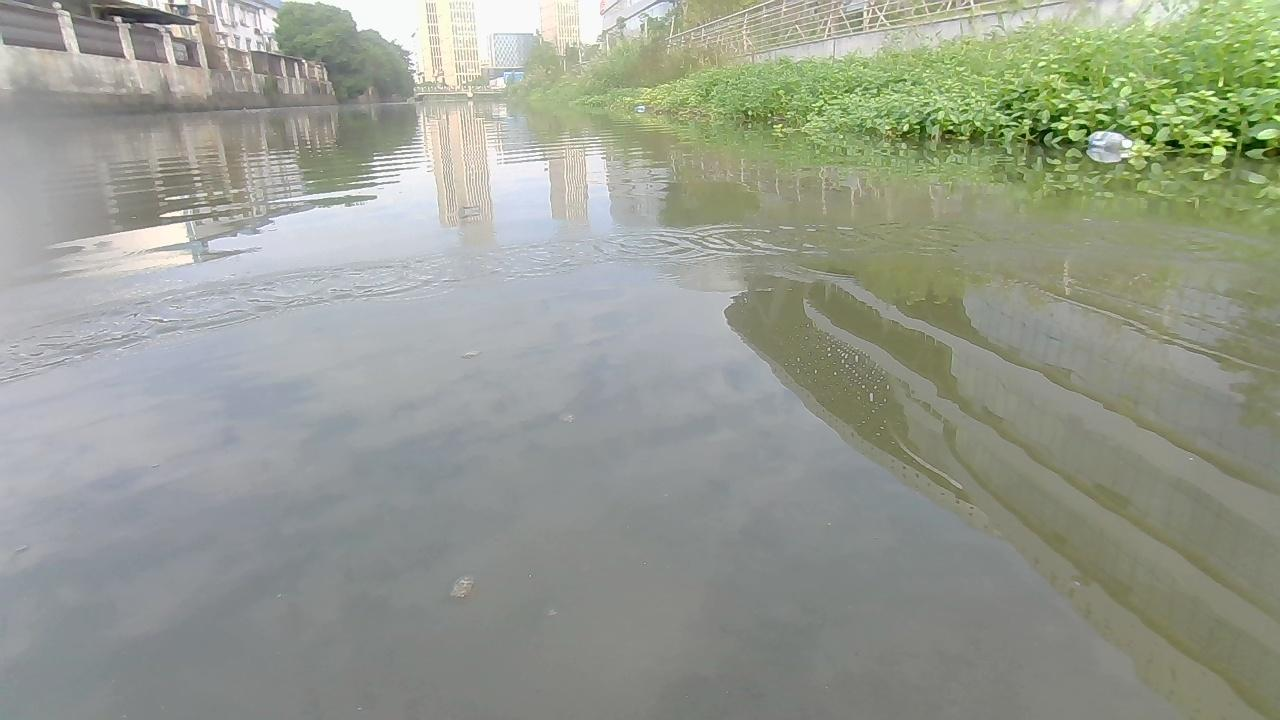bottle: (1081, 127, 1137, 150)
